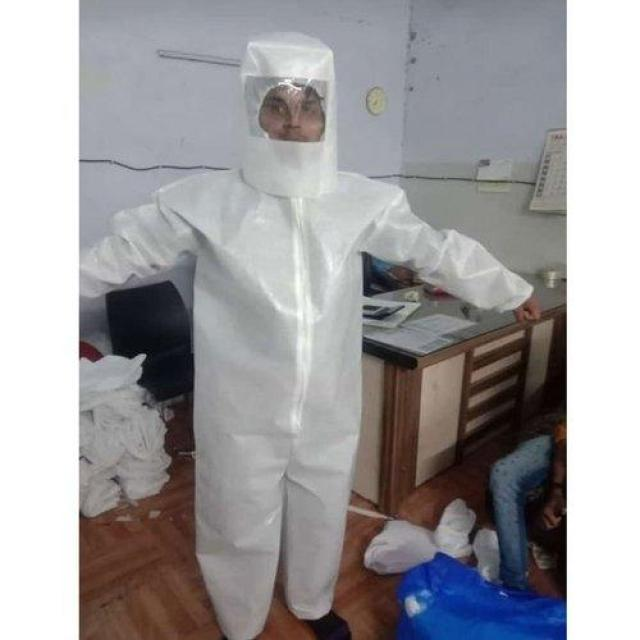Coverall: (94, 18, 482, 600)
